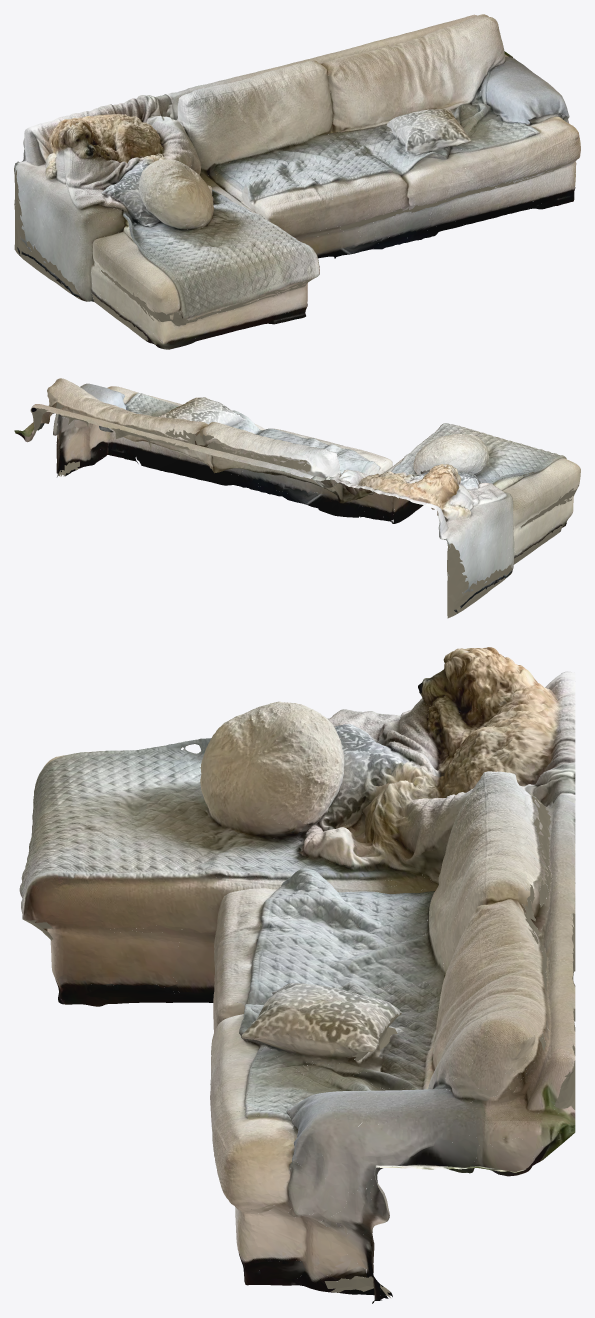
Rendered from rocco_on_his_couch (1)-compressed.glb.
The picture shows the model from 3 angles, top to bottom: view 1: azimuth 30°, elevation 25°; view 2: azimuth 150°, elevation 25°; view 3: azimuth 270°, elevation 25°; orthographic projection. The views are drawn at different scales.
Parts seen in each view (by area): view 1: couch_and_dogobjcleanermaterialmergergles; view 2: couch_and_dogobjcleanermaterialmergergles; view 3: couch_and_dogobjcleanermaterialmergergles.
Boxes of the visible parts, x1,y1,x2,y2 form: couch_and_dogobjcleanermaterialmergergles: [14, 14, 580, 349]; couch_and_dogobjcleanermaterialmergergles: [14, 378, 580, 618]; couch_and_dogobjcleanermaterialmergergles: [19, 647, 575, 1303].
Size of the model in its own units: 3.16 by 0.8593 by 1.7.
Materials: 4 (4 with a texture image).
